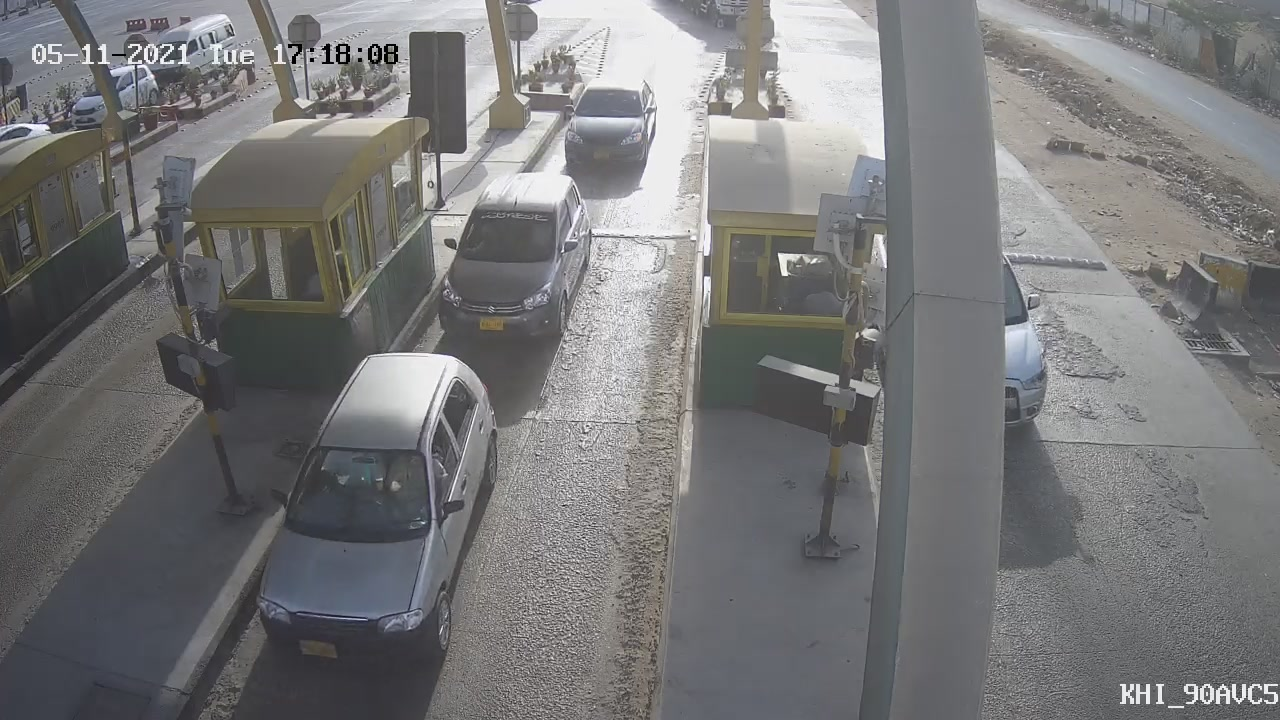F1: (408, 159, 605, 366), (544, 57, 672, 198)
